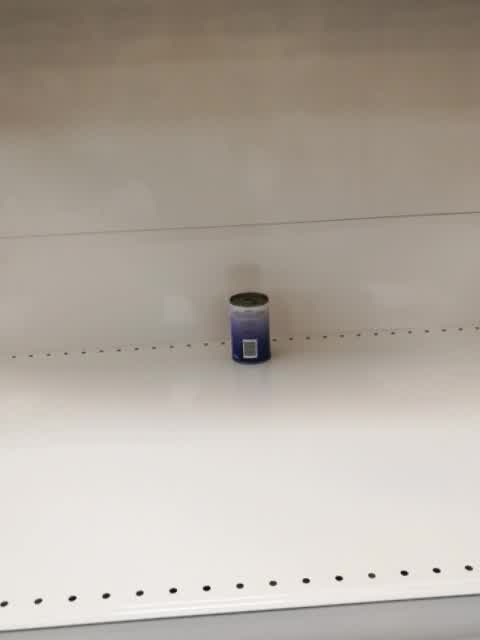sardine: (228, 291, 273, 364)
